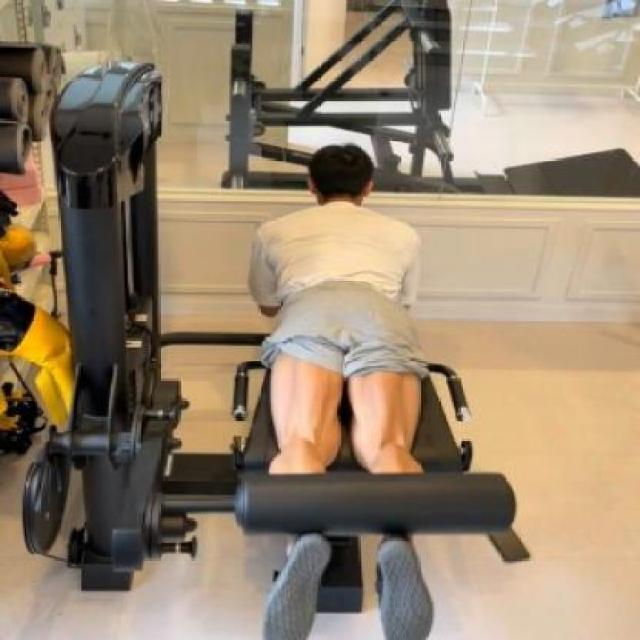reg curl machine: (17, 49, 535, 640)
